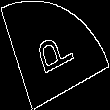P_W: (31, 27, 79, 83)
